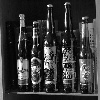beer: (14, 10, 31, 95)
